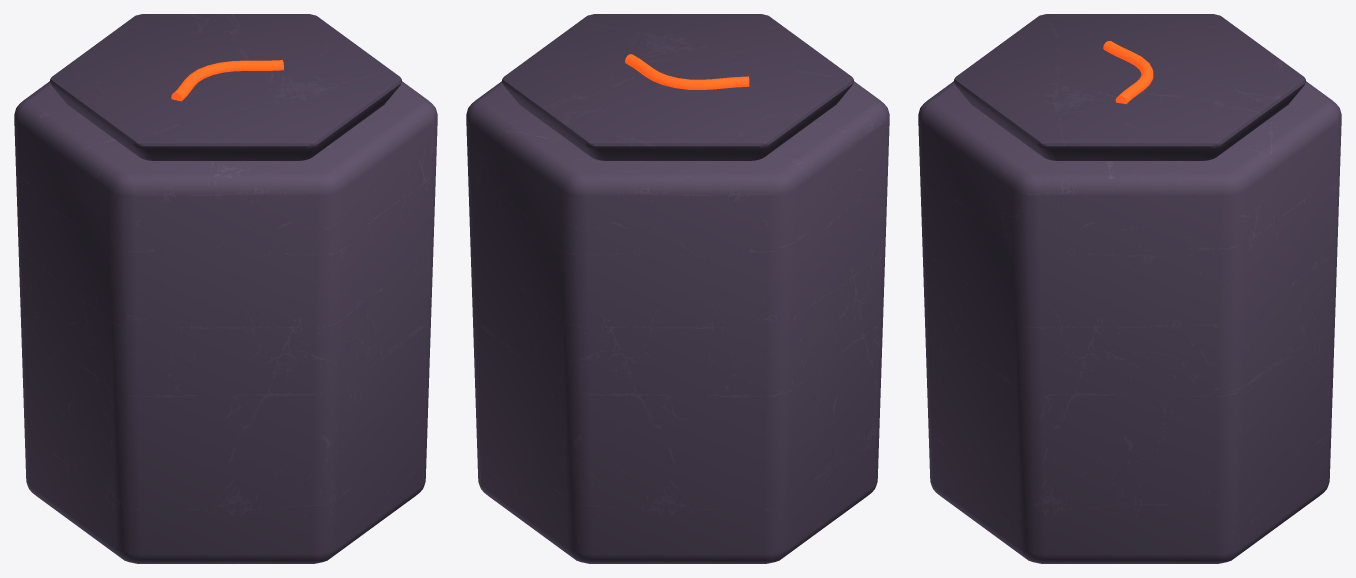
File: vol_solid_column.glb
3 views of the same model, side by side, from view 1: azimuth 30°, elevation 25°; view 2: azimuth 150°, elevation 25°; view 3: azimuth 270°, elevation 25° (orthographic).
Visible parts, largest first — view 1: vol_solid_column; view 2: vol_solid_column; view 3: vol_solid_column.
Boxes of the visible parts, x1,y1,x2,y2 form: vol_solid_column: [14, 14, 437, 563]; vol_solid_column: [466, 14, 889, 563]; vol_solid_column: [918, 14, 1341, 563].
Bounding box in the file's own units: 0.8639 × 1.08 × 0.9745.
Materials: 3 (2 with a texture image).
